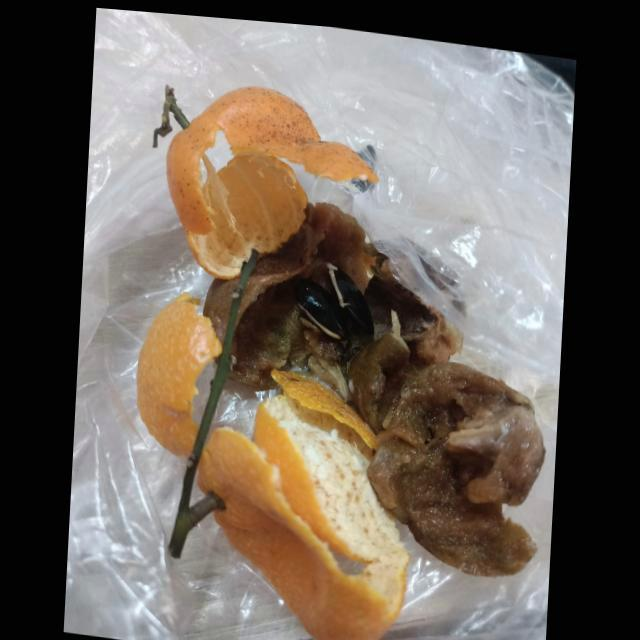left_over_food: (366, 350, 548, 569), (289, 238, 464, 432), (204, 199, 374, 390)
